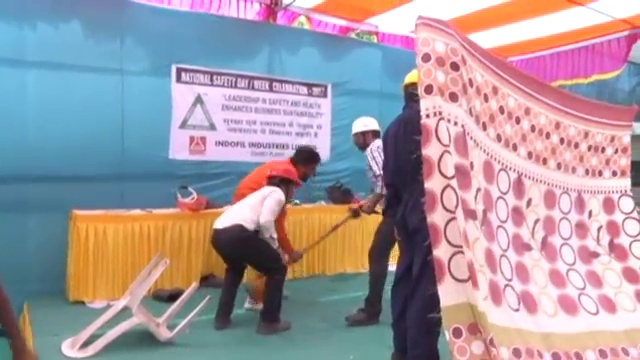helmet: (265, 164, 302, 188), (349, 116, 383, 137), (399, 66, 420, 85)
helmet_off: (291, 147, 323, 183)
helmet_on: (264, 163, 299, 205), (349, 115, 384, 153), (398, 65, 421, 104)
person: (382, 65, 443, 360), (204, 163, 298, 335), (348, 113, 395, 337), (231, 147, 321, 263)
